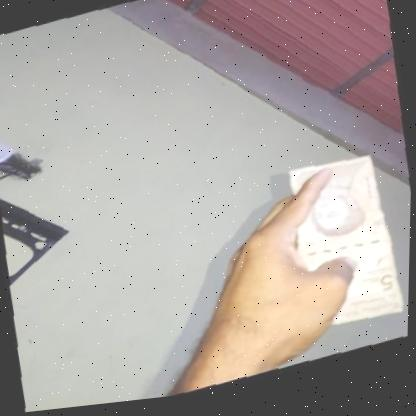five-front-vef: (281, 150, 408, 347)
